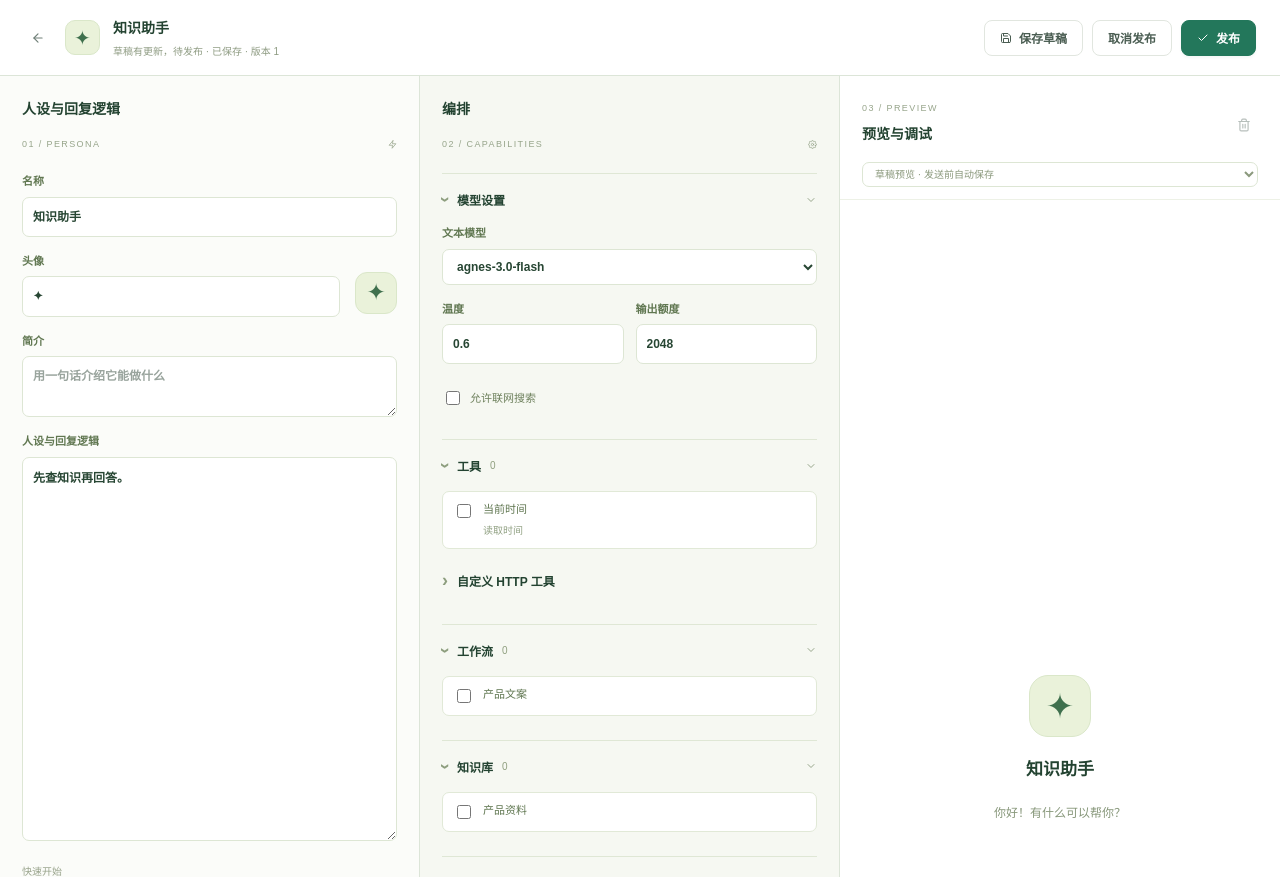
Test: 已发布草稿的更新状态和额度长度限制与后端一致
Expected: the field showing "知识助手" is shown, [22, 196, 397, 237]
Expected: the text "草稿有更新，待发布 · 已保存 · 版本 1" is shown, [113, 43, 279, 58]
Replace the text in the number field named "模型输出额度" with "127" at (726, 344), box [636, 324, 817, 364]
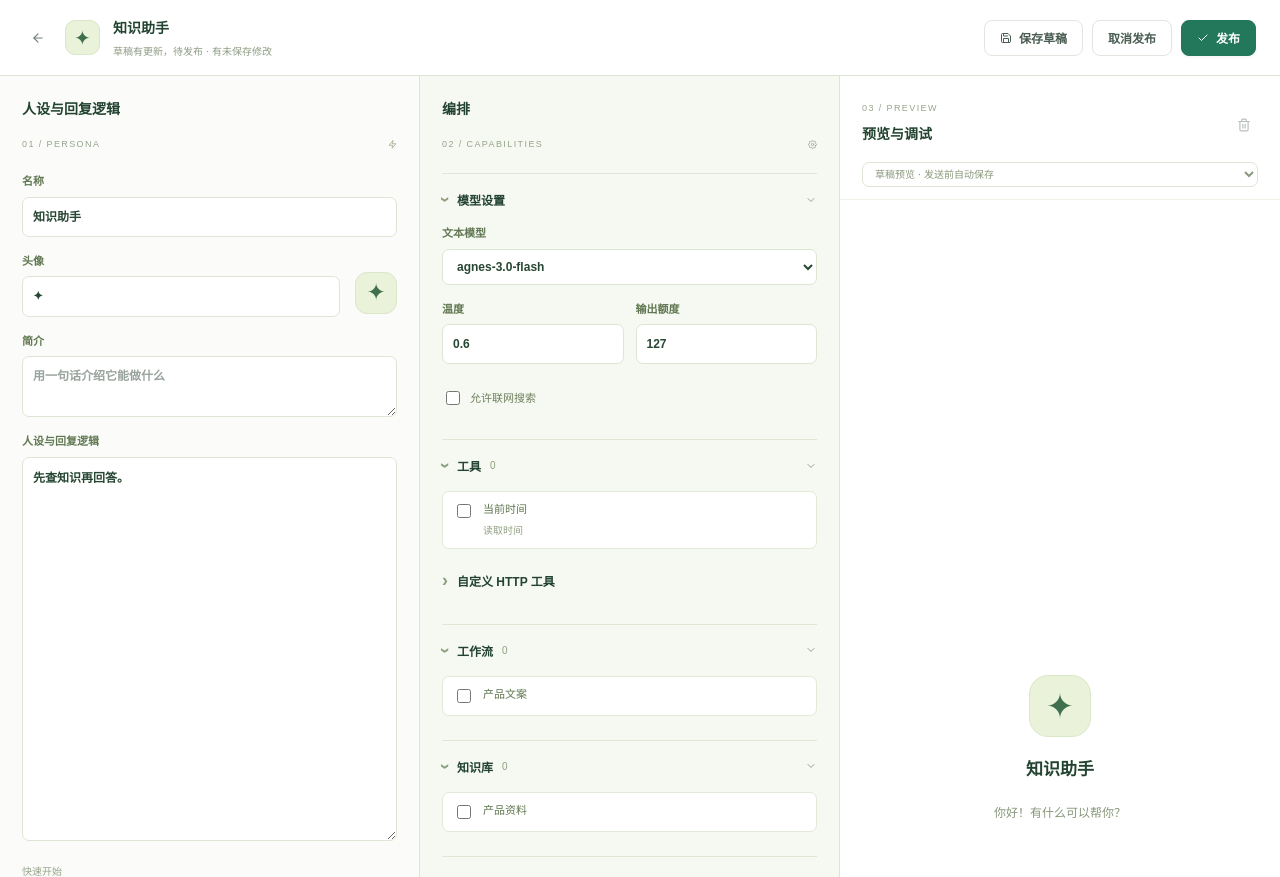
Click the button "保存草稿" at (1034, 38), box [984, 20, 1083, 56]
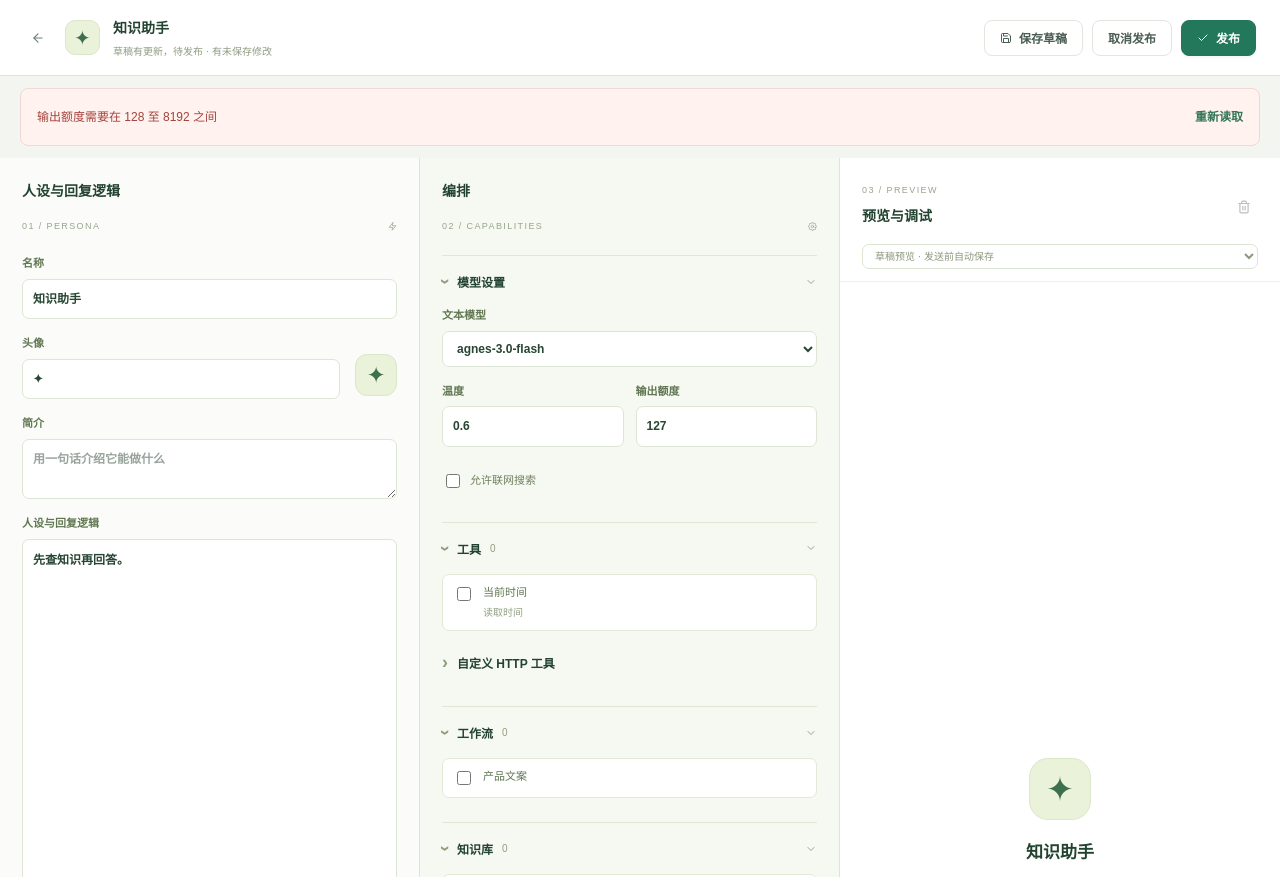
Now the message shows "128 至 8192", box [37, 110, 217, 124]
